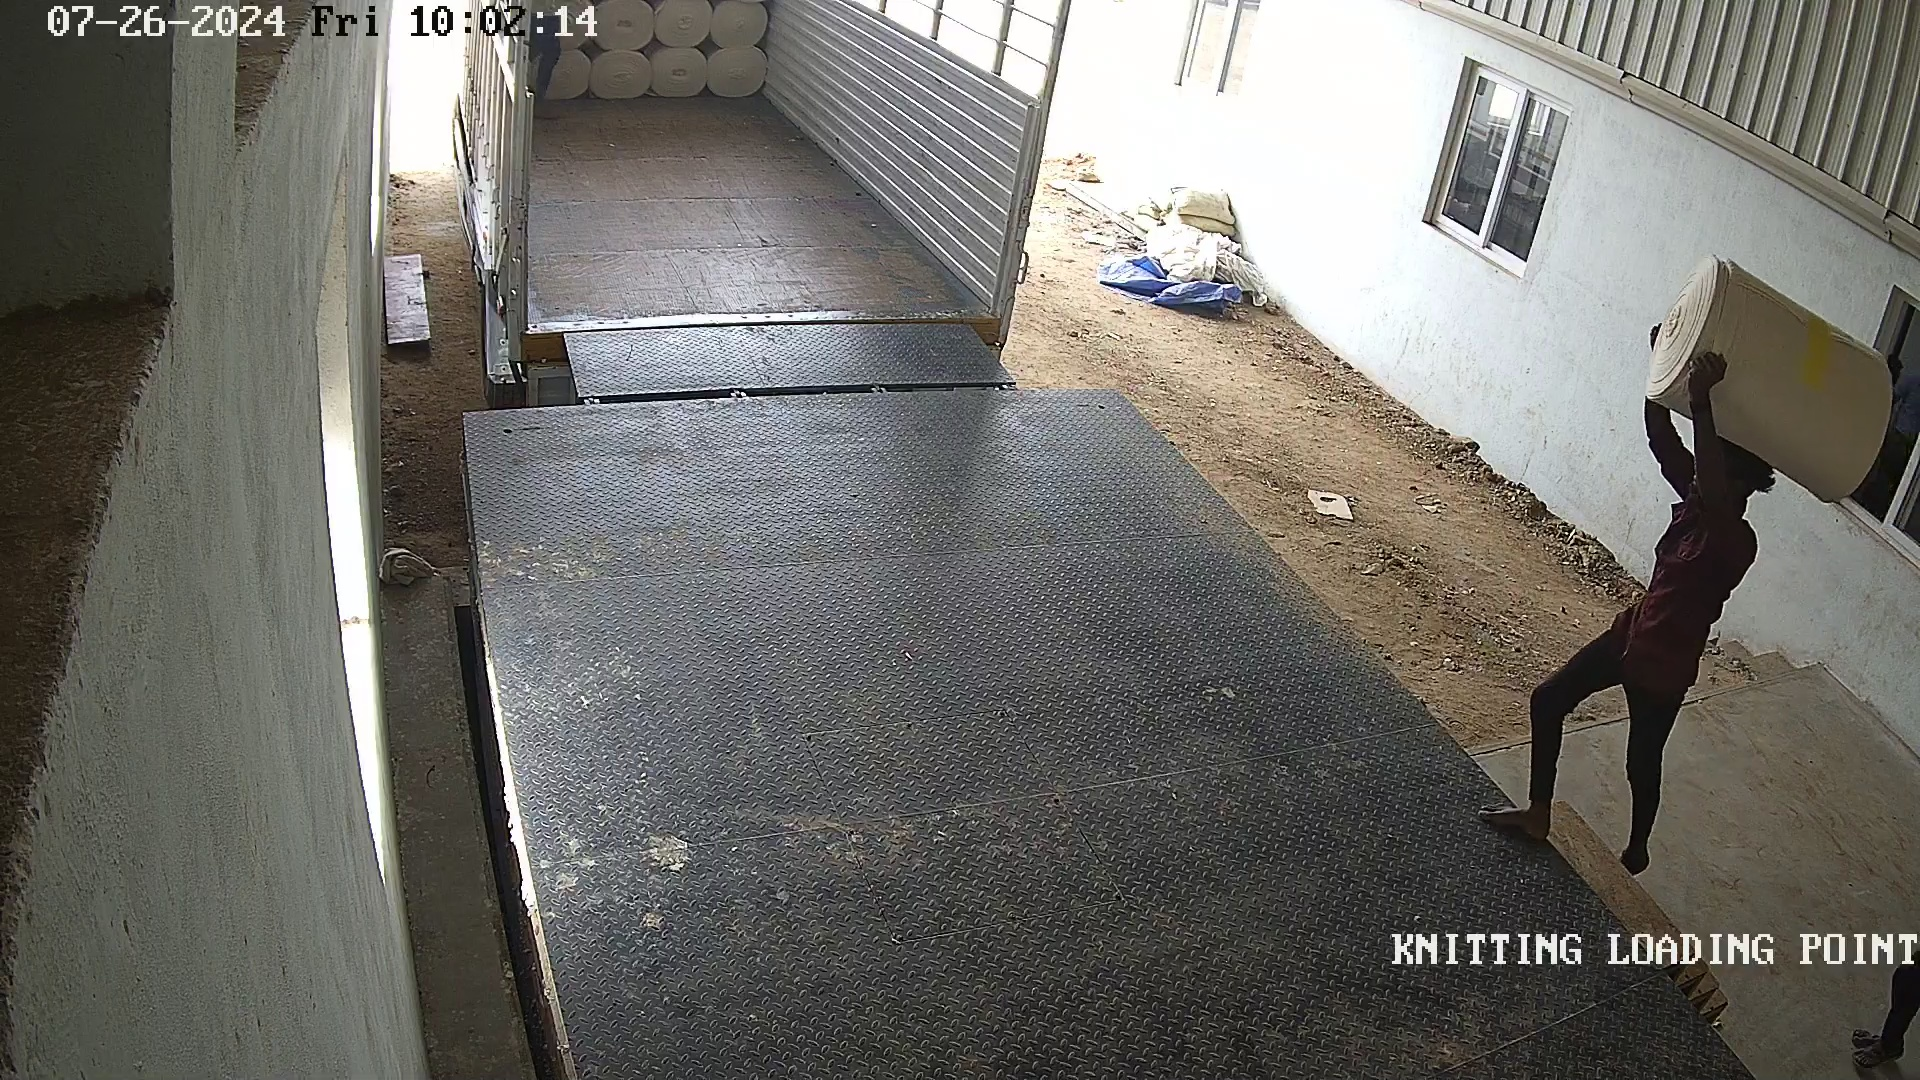bag: (1640, 249, 1894, 517)
